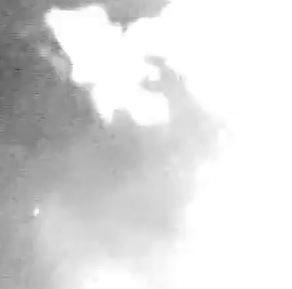Target: (34, 208, 39, 215)
